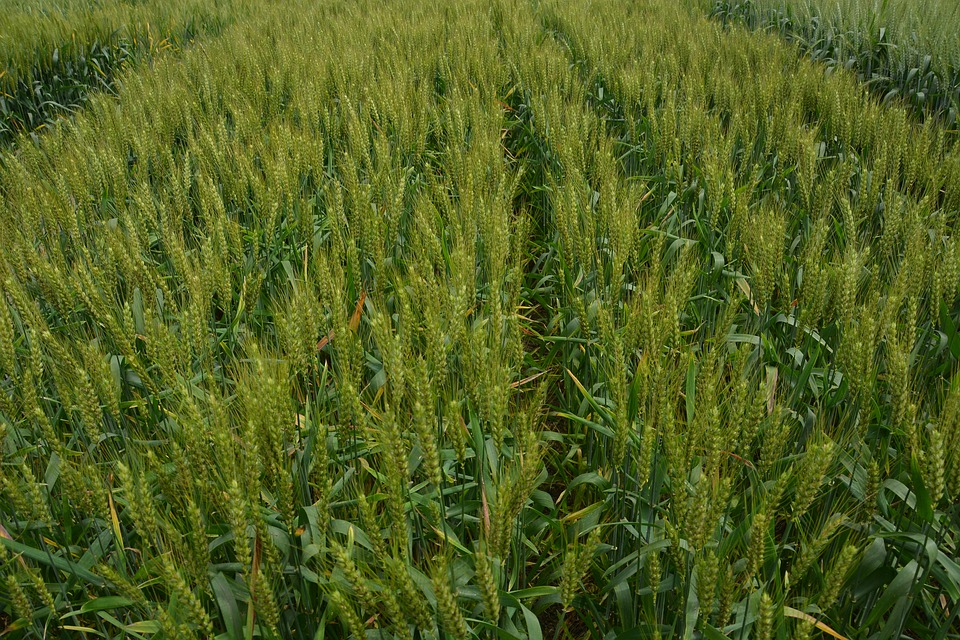Wheat: (94, 123, 543, 606)
